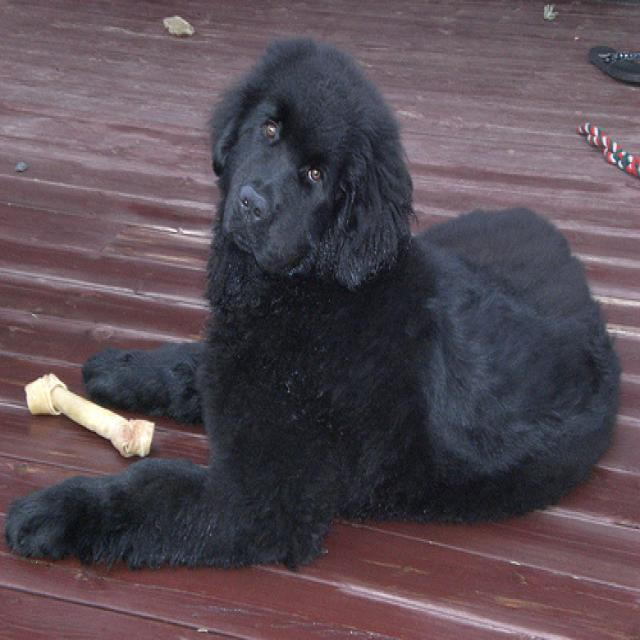dog: (210, 38, 408, 285)
